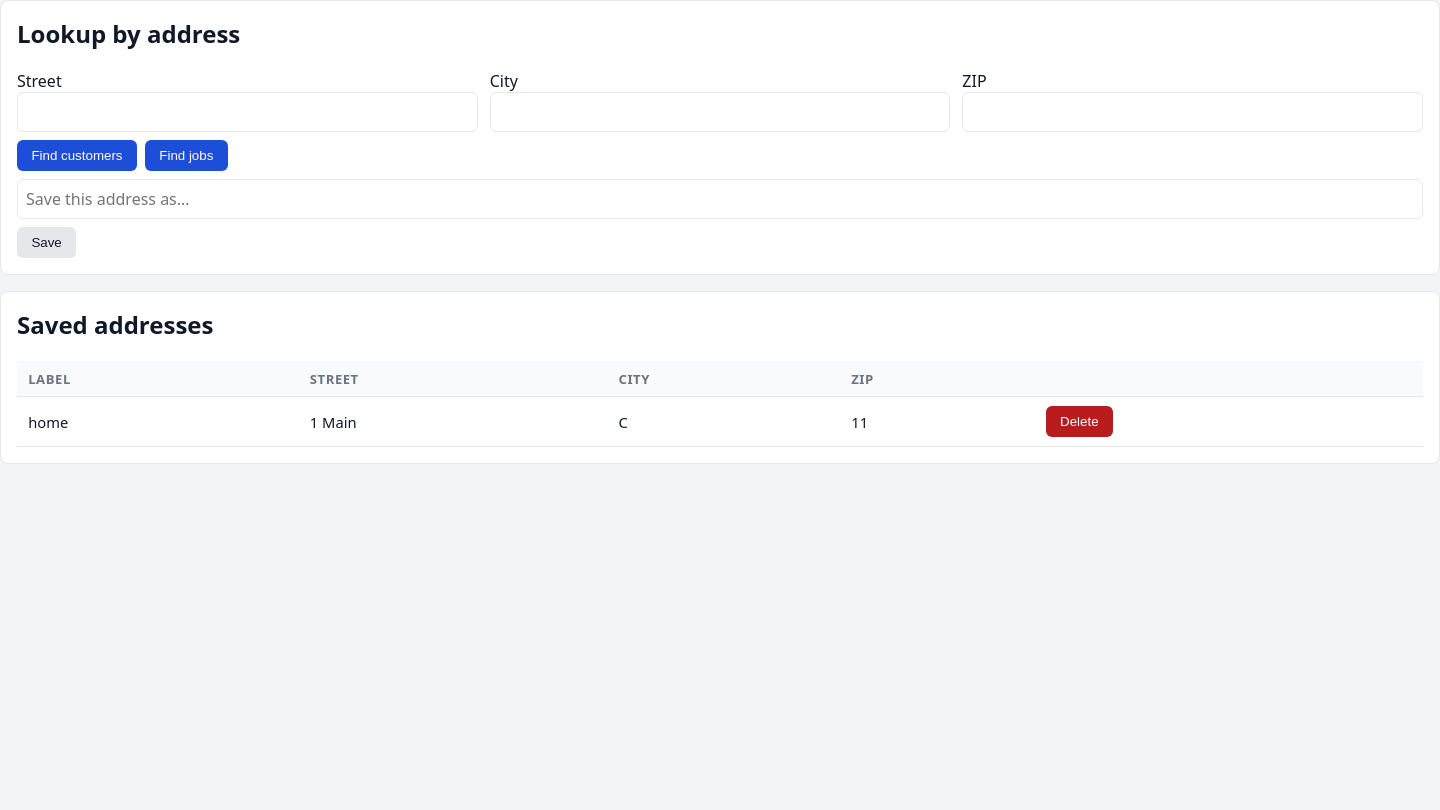
it: AddressBookPage › finds customers by address
Type "11" into the 3rd field at [1193, 112], box [962,92,1423,132]
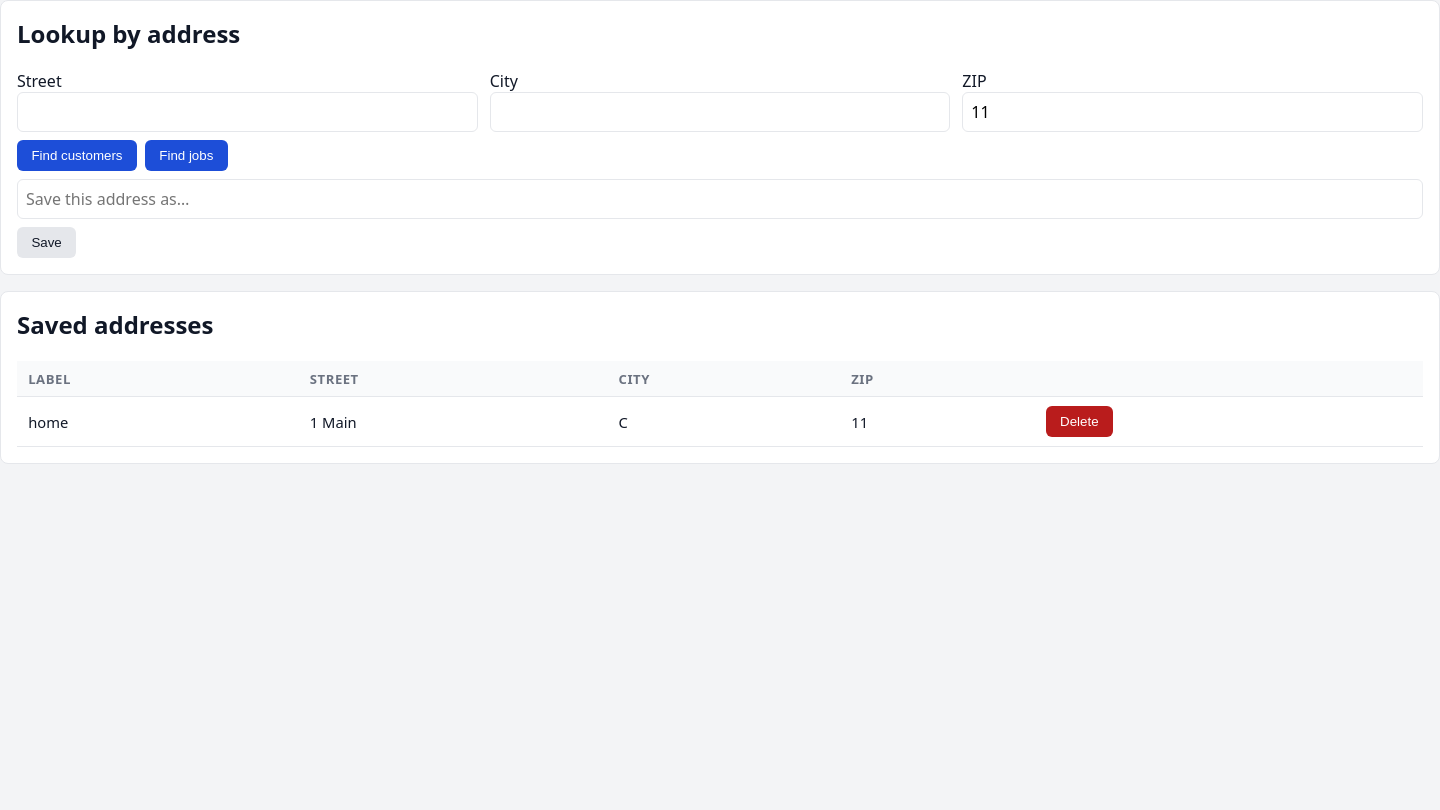
Click the button "Find customers" at [77, 155], box [17,140,137,171]
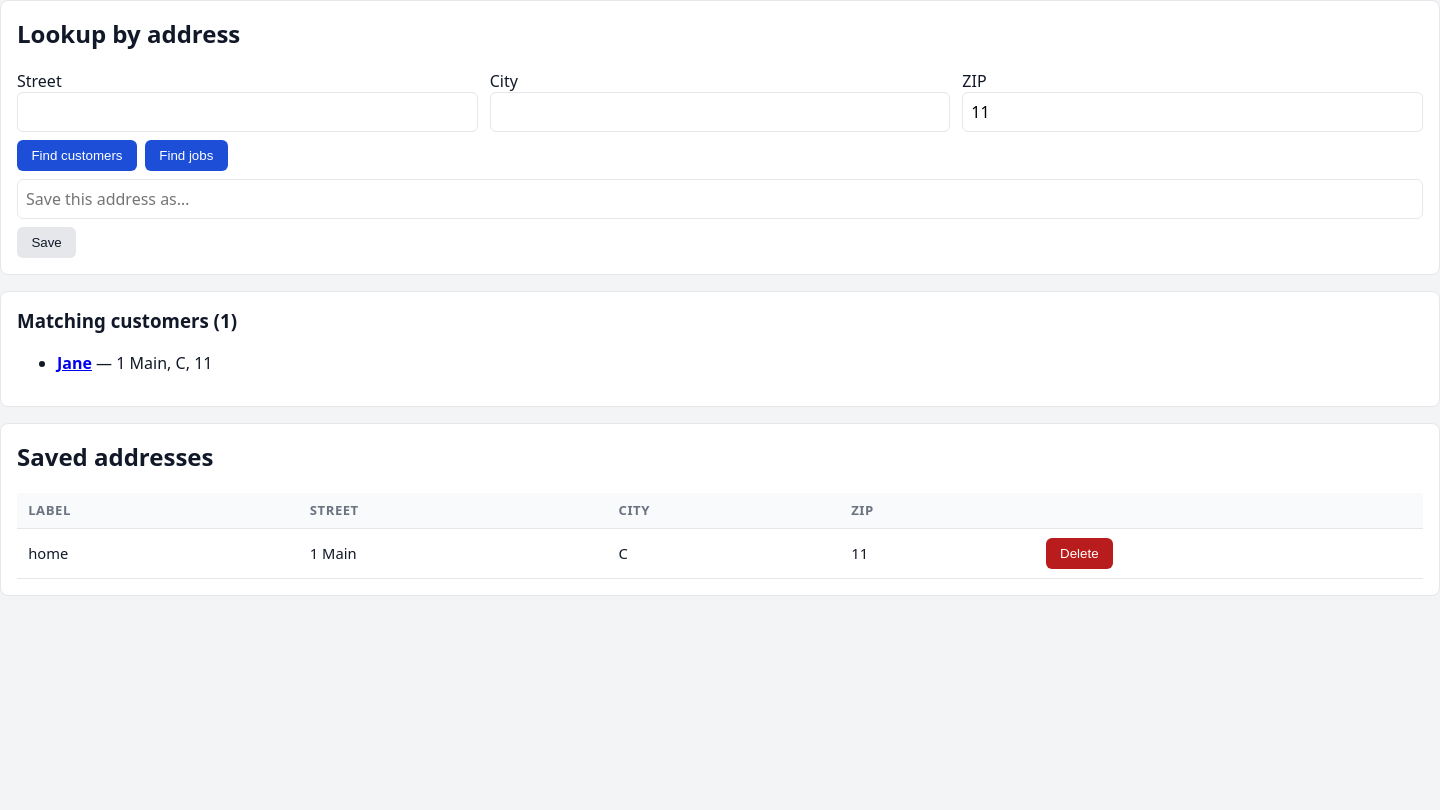
Now the heading "Matching customers (1)" is shown, box [17,308,237,333]
